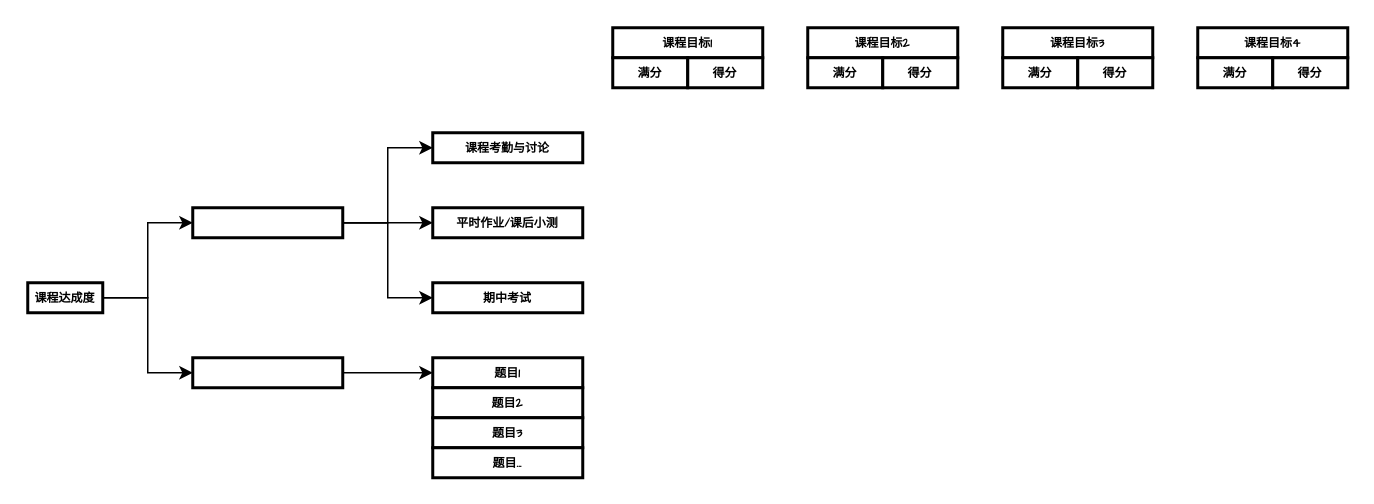
Some shapes in this 1374 by 504 pixel diagram are drawn without their labels. Each missing label, with the box of its shape:
平时成绩(percentage_1%): (190, 206, 344, 238)
期末成绩(percentage_2%): (190, 356, 344, 388)
